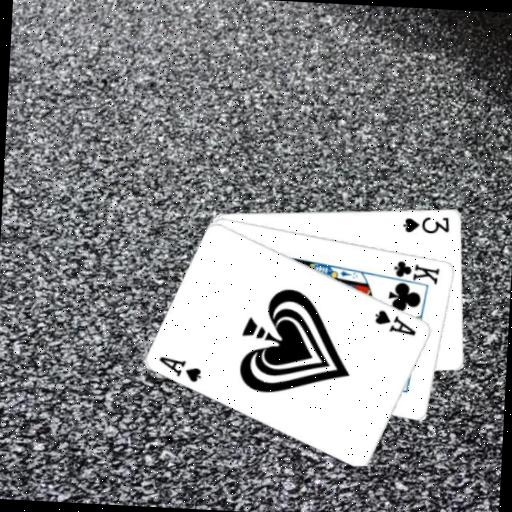3S: (400, 211, 452, 236)
AS: (155, 353, 205, 384), (372, 307, 419, 338)
KC: (385, 256, 442, 289)
